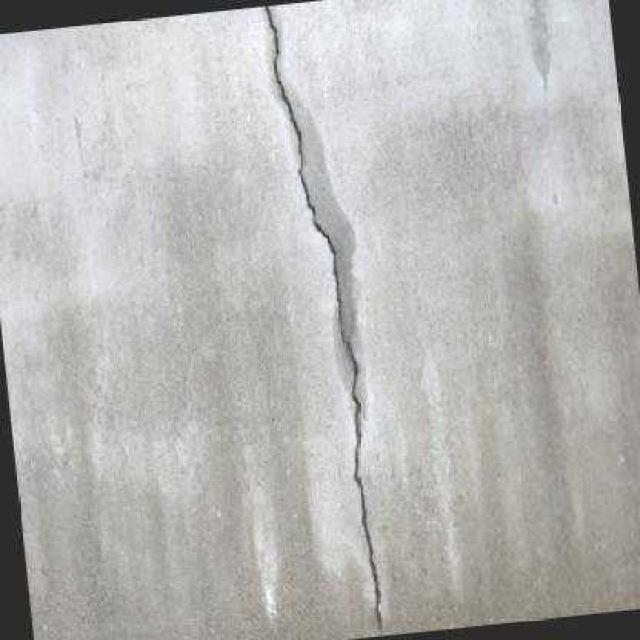D00: (262, 4, 381, 636)
